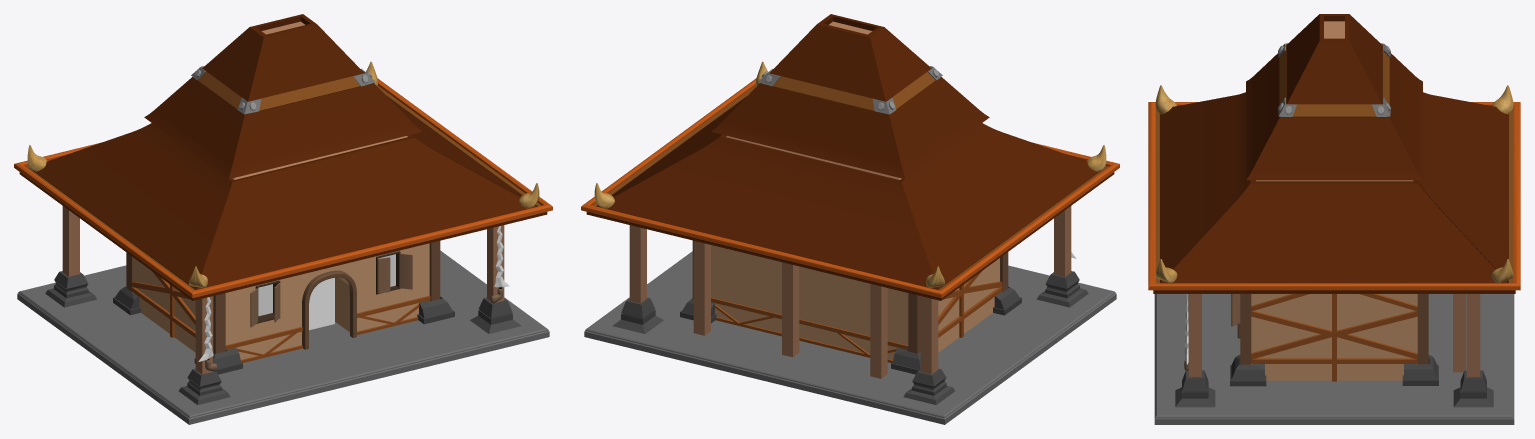
File: rumah_joglo_indonesia__option_2.fbx
3 renders of one model, left to right at view 1: azimuth 30°, elevation 25°; view 2: azimuth 150°, elevation 25°; view 3: azimuth 270°, elevation 25°, orthographic. The views are drawn at different scales.
Parts seen in each view (by area): view 1: node_30f71a24_7983_45e6_85ae_8601023cebc2_mesh0, node_484115c4_e449_4141_ac76_1c124bc4c875_mesh0, node_bd928d2d_af26_4e8e_b927_765a71e24fec_mesh0, node_c5b9b8a2_4c55_4f00_81bd_4b24b6faafc0_mesh0, node_89de615e_00a2_4b5c_a1bd_c1e48c5c6c97_mesh0, node_3fca369c_9f38_4be1_8c0a_90c01aa906d9_mesh0, node_df24eb35_f12d_4ddc_8efe_52efbb200738_mesh0, node_25554978_985c_49f3_a1aa_fba4b2006176_mesh0, node_787e6448_57d5_48be_9772_ed42daecd389_mesh0, node_70fcb399_ee80_45c8_9550_d5bf115646d0_mesh0, node_bb16d67c_3bb9_4792_a9cc_ca6a4cfb40d9_mesh0, node_46978aa1_f141_4efd_9c1e_626b064976b6_mesh0 (+5 smaller); view 2: node_30f71a24_7983_45e6_85ae_8601023cebc2_mesh0, node_484115c4_e449_4141_ac76_1c124bc4c875_mesh0, node_bd928d2d_af26_4e8e_b927_765a71e24fec_mesh0, node_c5b9b8a2_4c55_4f00_81bd_4b24b6faafc0_mesh0, node_f2fc1eae_8213_4e20_bdb0_4dfceb4f14f6_mesh0, node_3fca369c_9f38_4be1_8c0a_90c01aa906d9_mesh0, node_89de615e_00a2_4b5c_a1bd_c1e48c5c6c97_mesh0, node_df24eb35_f12d_4ddc_8efe_52efbb200738_mesh0, node_380a0519_8897_4a08_b9db_dbecd5c6f4dd_mesh0, node_25554978_985c_49f3_a1aa_fba4b2006176_mesh0, node_bb16d67c_3bb9_4792_a9cc_ca6a4cfb40d9_mesh0, node_787e6448_57d5_48be_9772_ed42daecd389_mesh0 (+3 smaller); view 3: node_30f71a24_7983_45e6_85ae_8601023cebc2_mesh0, node_484115c4_e449_4141_ac76_1c124bc4c875_mesh0, node_bd928d2d_af26_4e8e_b927_765a71e24fec_mesh0, node_c5b9b8a2_4c55_4f00_81bd_4b24b6faafc0_mesh0, node_bb16d67c_3bb9_4792_a9cc_ca6a4cfb40d9_mesh0, node_3fca369c_9f38_4be1_8c0a_90c01aa906d9_mesh0, node_89de615e_00a2_4b5c_a1bd_c1e48c5c6c97_mesh0, node_df24eb35_f12d_4ddc_8efe_52efbb200738_mesh0, node_25554978_985c_49f3_a1aa_fba4b2006176_mesh0, node_787e6448_57d5_48be_9772_ed42daecd389_mesh0, node_88e61f07_885a_4b23_b04d_ec57197d6e9b_mesh0, node_fb37e0e7_59b9_4e16_a854_a03448ce6674_mesh0 (+3 smaller).
Part boxes in pixels (left/top/right/bottom): node_30f71a24_7983_45e6_85ae_8601023cebc2_mesh0: left=19, top=14, right=547, bottom=300; node_484115c4_e449_4141_ac76_1c124bc4c875_mesh0: left=17, top=250, right=549, bottom=424; node_bd928d2d_af26_4e8e_b927_765a71e24fec_mesh0: left=134, top=243, right=429, bottom=359; node_c5b9b8a2_4c55_4f00_81bd_4b24b6faafc0_mesh0: left=14, top=78, right=552, bottom=298; node_89de615e_00a2_4b5c_a1bd_c1e48c5c6c97_mesh0: left=45, top=271, right=521, bottom=404; node_3fca369c_9f38_4be1_8c0a_90c01aa906d9_mesh0: left=62, top=206, right=504, bottom=374; node_df24eb35_f12d_4ddc_8efe_52efbb200738_mesh0: left=198, top=67, right=373, bottom=114; node_25554978_985c_49f3_a1aa_fba4b2006176_mesh0: left=113, top=286, right=454, bottom=374; node_787e6448_57d5_48be_9772_ed42daecd389_mesh0: left=126, top=241, right=440, bottom=353; node_70fcb399_ee80_45c8_9550_d5bf115646d0_mesh0: left=225, top=295, right=430, bottom=362; node_bb16d67c_3bb9_4792_a9cc_ca6a4cfb40d9_mesh0: left=131, top=271, right=195, bottom=337; node_46978aa1_f141_4efd_9c1e_626b064976b6_mesh0: left=302, top=270, right=356, bottom=349; node_30f71a24_7983_45e6_85ae_8601023cebc2_mesh0: left=586, top=14, right=1114, bottom=300; node_484115c4_e449_4141_ac76_1c124bc4c875_mesh0: left=584, top=251, right=1116, bottom=424; node_bd928d2d_af26_4e8e_b927_765a71e24fec_mesh0: left=711, top=245, right=999, bottom=359; node_c5b9b8a2_4c55_4f00_81bd_4b24b6faafc0_mesh0: left=581, top=78, right=1119, bottom=298; node_f2fc1eae_8213_4e20_bdb0_4dfceb4f14f6_mesh0: left=693, top=241, right=887, bottom=378; node_3fca369c_9f38_4be1_8c0a_90c01aa906d9_mesh0: left=629, top=206, right=1071, bottom=374; node_89de615e_00a2_4b5c_a1bd_c1e48c5c6c97_mesh0: left=612, top=271, right=1088, bottom=404; node_df24eb35_f12d_4ddc_8efe_52efbb200738_mesh0: left=760, top=67, right=935, bottom=114; node_380a0519_8897_4a08_b9db_dbecd5c6f4dd_mesh0: left=711, top=297, right=908, bottom=362; node_25554978_985c_49f3_a1aa_fba4b2006176_mesh0: left=680, top=286, right=1021, bottom=374; node_bb16d67c_3bb9_4792_a9cc_ca6a4cfb40d9_mesh0: left=938, top=271, right=1002, bottom=337; node_787e6448_57d5_48be_9772_ed42daecd389_mesh0: left=692, top=240, right=1008, bottom=353; node_30f71a24_7983_45e6_85ae_8601023cebc2_mesh0: left=1153, top=14, right=1515, bottom=293; node_484115c4_e449_4141_ac76_1c124bc4c875_mesh0: left=1154, top=294, right=1514, bottom=424; node_bd928d2d_af26_4e8e_b927_765a71e24fec_mesh0: left=1251, top=294, right=1417, bottom=380; node_c5b9b8a2_4c55_4f00_81bd_4b24b6faafc0_mesh0: left=1148, top=102, right=1520, bottom=290; node_bb16d67c_3bb9_4792_a9cc_ca6a4cfb40d9_mesh0: left=1251, top=294, right=1417, bottom=381; node_3fca369c_9f38_4be1_8c0a_90c01aa906d9_mesh0: left=1188, top=294, right=1480, bottom=376; node_89de615e_00a2_4b5c_a1bd_c1e48c5c6c97_mesh0: left=1175, top=370, right=1493, bottom=407; node_df24eb35_f12d_4ddc_8efe_52efbb200738_mesh0: left=1279, top=44, right=1389, bottom=117; node_25554978_985c_49f3_a1aa_fba4b2006176_mesh0: left=1230, top=355, right=1438, bottom=386; node_787e6448_57d5_48be_9772_ed42daecd389_mesh0: left=1240, top=294, right=1428, bottom=364; node_88e61f07_885a_4b23_b04d_ec57197d6e9b_mesh0: left=1155, top=107, right=1513, bottom=283; node_fb37e0e7_59b9_4e16_a854_a03448ce6674_mesh0: left=1155, top=85, right=1513, bottom=282.
Bounding box in the file's own units: 165 × 128 × 142.
Materials: 23 (1 with a texture image).
